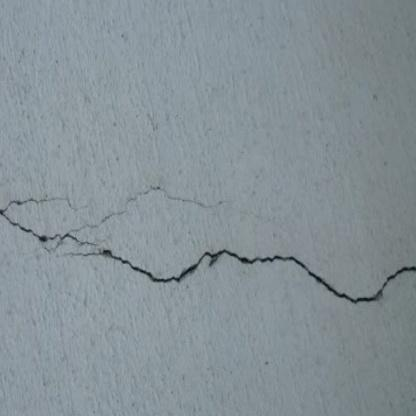Cracks: (0, 183, 416, 308)
